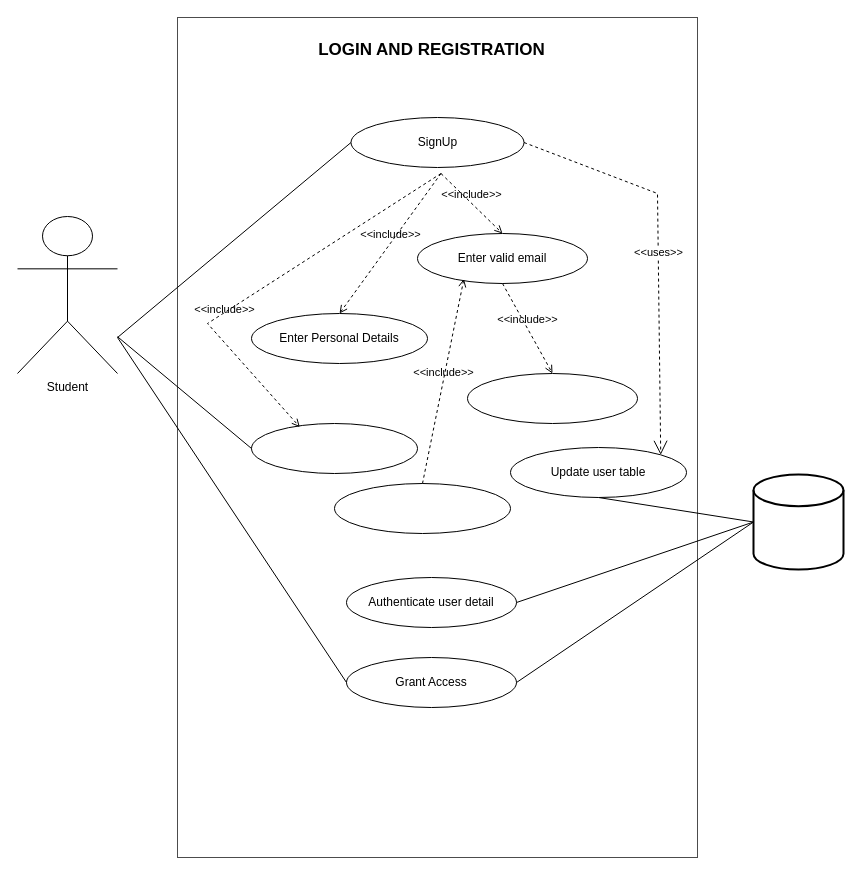
Image size: 862x875. Some labels were removed from this diagram. Each missing label, with the box of its shape:
<<Actor Database>>: (752, 473, 844, 570)
Enter OTP: (466, 372, 638, 424)
Login: (250, 422, 418, 474)
Verify user: (334, 482, 510, 534)
